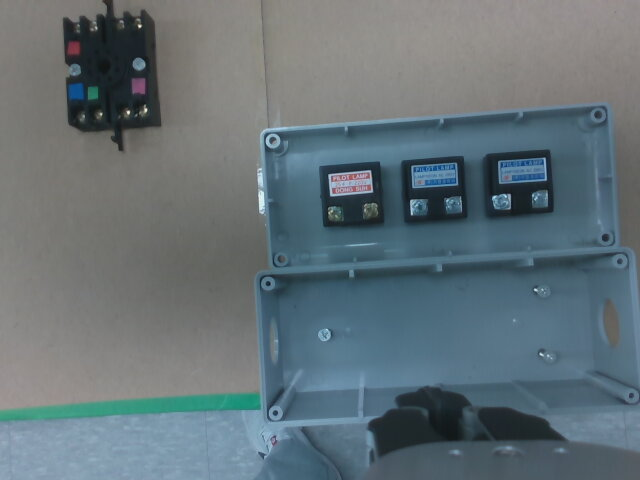L1(1): (327, 206, 343, 220)
L1(2): (363, 203, 378, 218)
L2(1): (409, 199, 429, 215)
L2(2): (445, 197, 462, 213)
L3(1): (493, 194, 511, 209)
L3(2): (531, 190, 549, 207)
